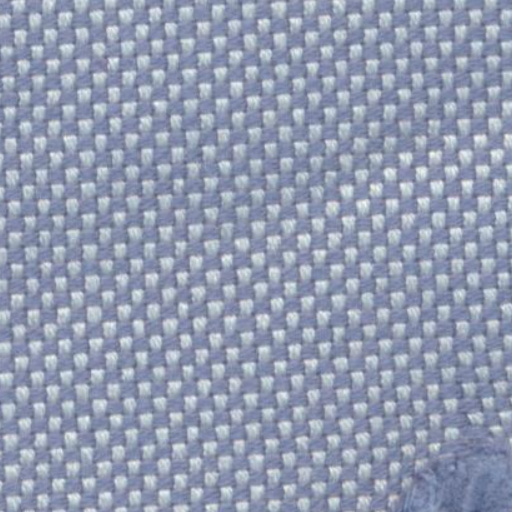MianQiu: (358, 406, 504, 503)
